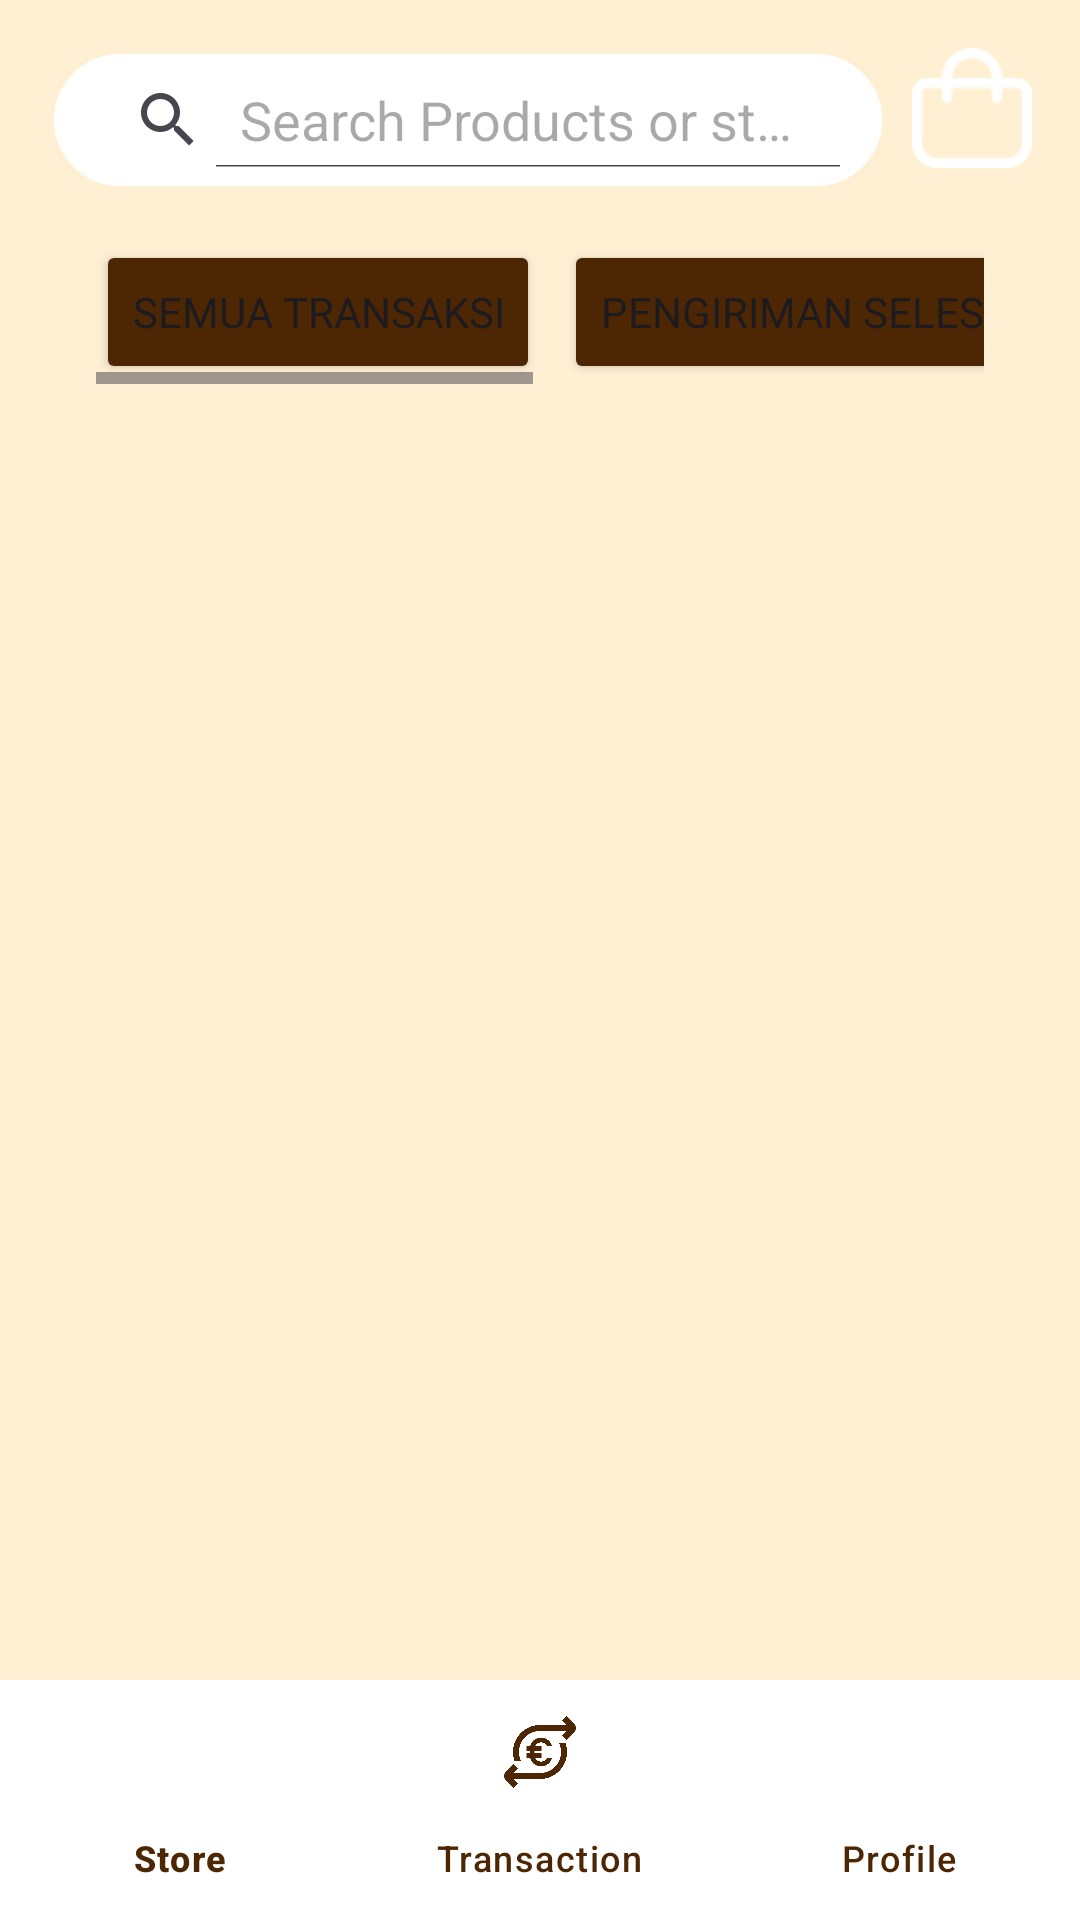

Screen size 1080 x 1920. Icon name, then its box in pixels as (x1, y1, x2, y2):
Cart Icon: (912, 48, 1032, 168)
